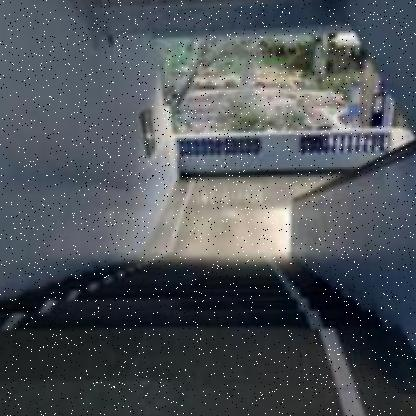stair_down: (43, 239, 311, 368)
